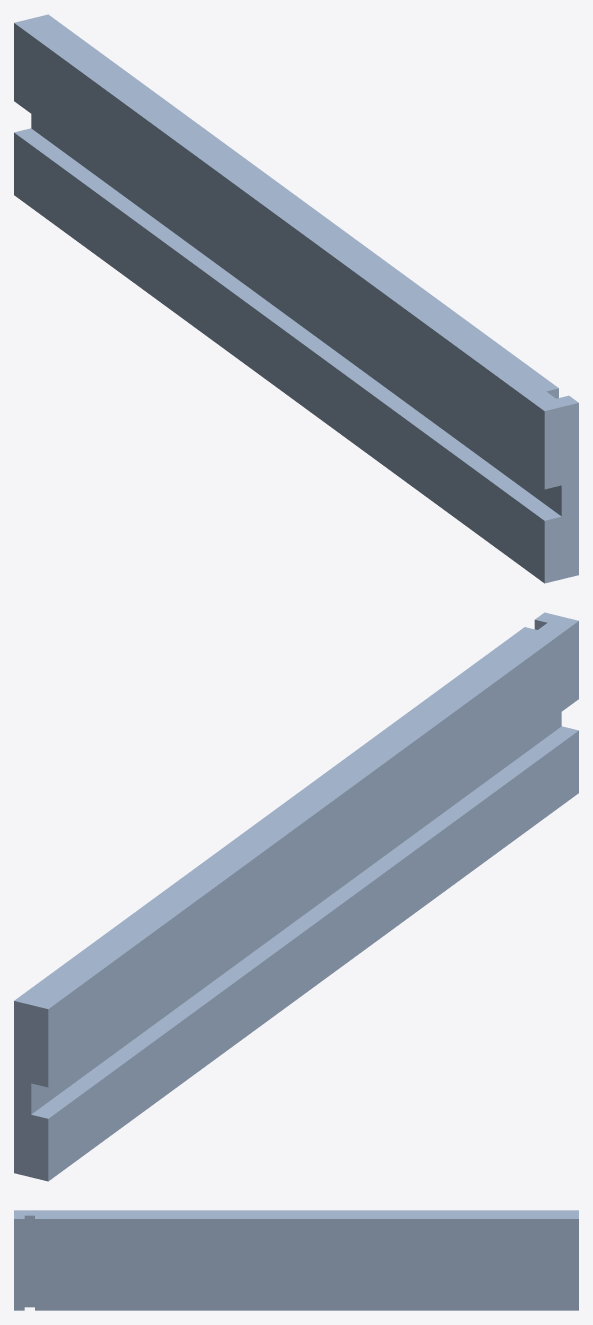
Rendered from original-9.obj.
3 renders of one model, top to bottom at view 1: azimuth 30°, elevation 25°; view 2: azimuth 150°, elevation 25°; view 3: azimuth 270°, elevation 25°, orthographic. The views are drawn at different scales.
Parts seen in each view (by area): view 1: Group9/mesh9/mesh9-geometry#mesh9-geometry; view 2: Group9/mesh9/mesh9-geometry#mesh9-geometry; view 3: Group9/mesh9/mesh9-geometry#mesh9-geometry.
Part boxes in pixels (bbox=[...]): Group9/mesh9/mesh9-geometry#mesh9-geometry: bbox=[14, 14, 578, 583]; Group9/mesh9/mesh9-geometry#mesh9-geometry: bbox=[14, 612, 578, 1181]; Group9/mesh9/mesh9-geometry#mesh9-geometry: bbox=[14, 1210, 578, 1310].
Bounding box in the file's own units: 0.0105 × 0.0503 × 0.2808.
